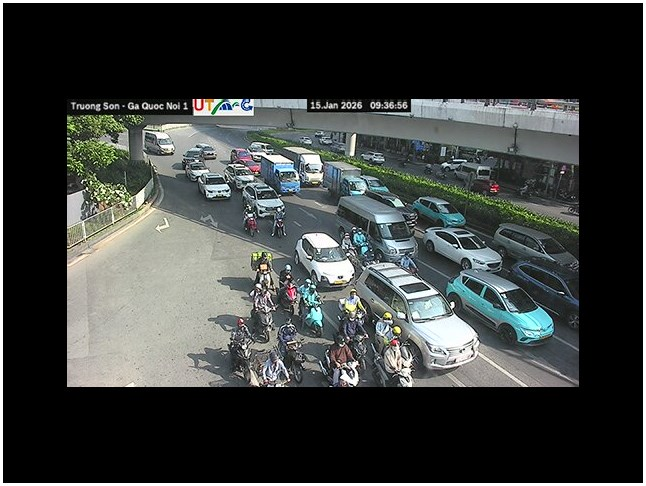bus: (337, 192, 420, 273), (281, 148, 324, 185)
car: (356, 261, 479, 368), (445, 266, 556, 346), (509, 260, 579, 328), (492, 222, 578, 271), (416, 226, 502, 271), (294, 231, 356, 289), (408, 195, 467, 232), (242, 181, 286, 216), (198, 172, 232, 202), (143, 130, 175, 155), (360, 150, 385, 164)
